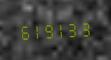nine: (42, 20, 53, 40)
one: (29, 21, 40, 40), (54, 20, 65, 39)
six: (17, 21, 28, 41)
three: (78, 18, 89, 38), (66, 19, 77, 38)
